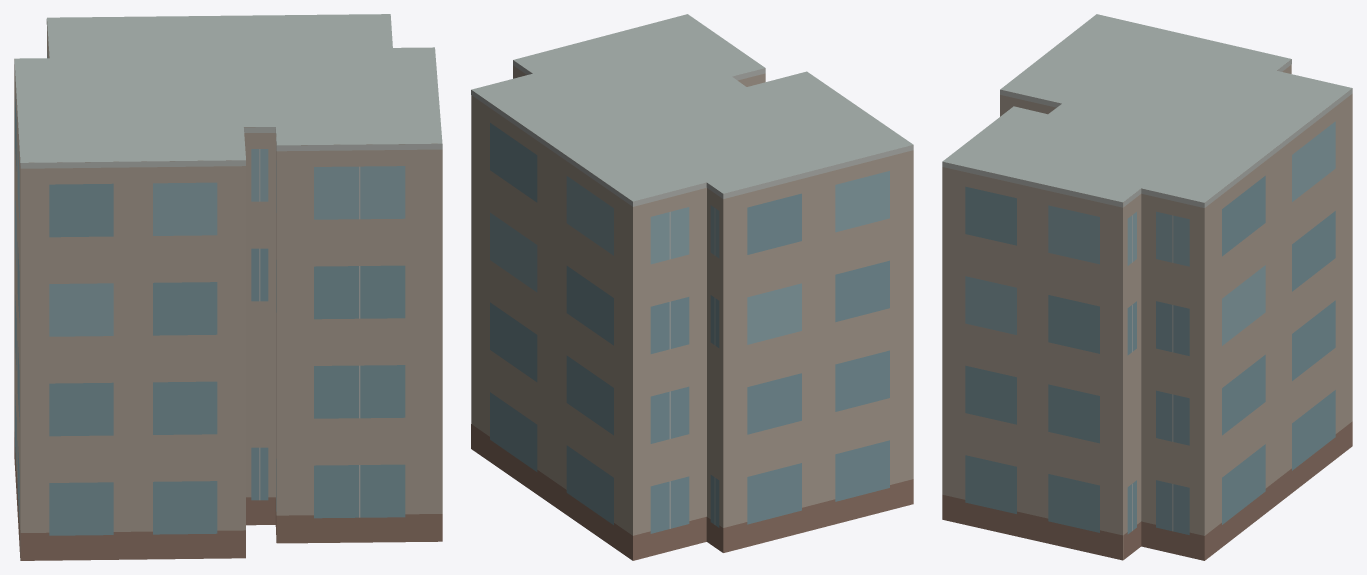
Rendered from survey-upis-32595061.glb.
3 renders of one model, left to right at view 1: azimuth 30°, elevation 25°; view 2: azimuth 150°, elevation 25°; view 3: azimuth 270°, elevation 25°, orthographic. The views are drawn at different scales.
Visible parts, largest first — view 1: survey-upis-32595061.tmp; view 2: survey-upis-32595061.tmp; view 3: survey-upis-32595061.tmp.
Boxes of the visible parts, x1,y1,x2,y2 form: survey-upis-32595061.tmp: (14, 14, 442, 560); survey-upis-32595061.tmp: (471, 14, 913, 560); survey-upis-32595061.tmp: (942, 14, 1352, 560).
Size of the model in its own units: 18.67 by 16.5 by 17.15.
